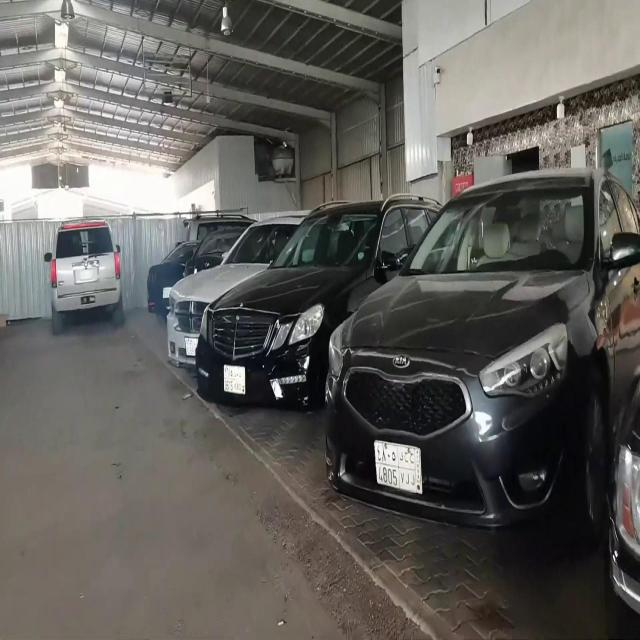license_plate: (370, 434, 424, 498), (221, 359, 247, 395), (78, 282, 98, 303), (78, 258, 99, 278)
